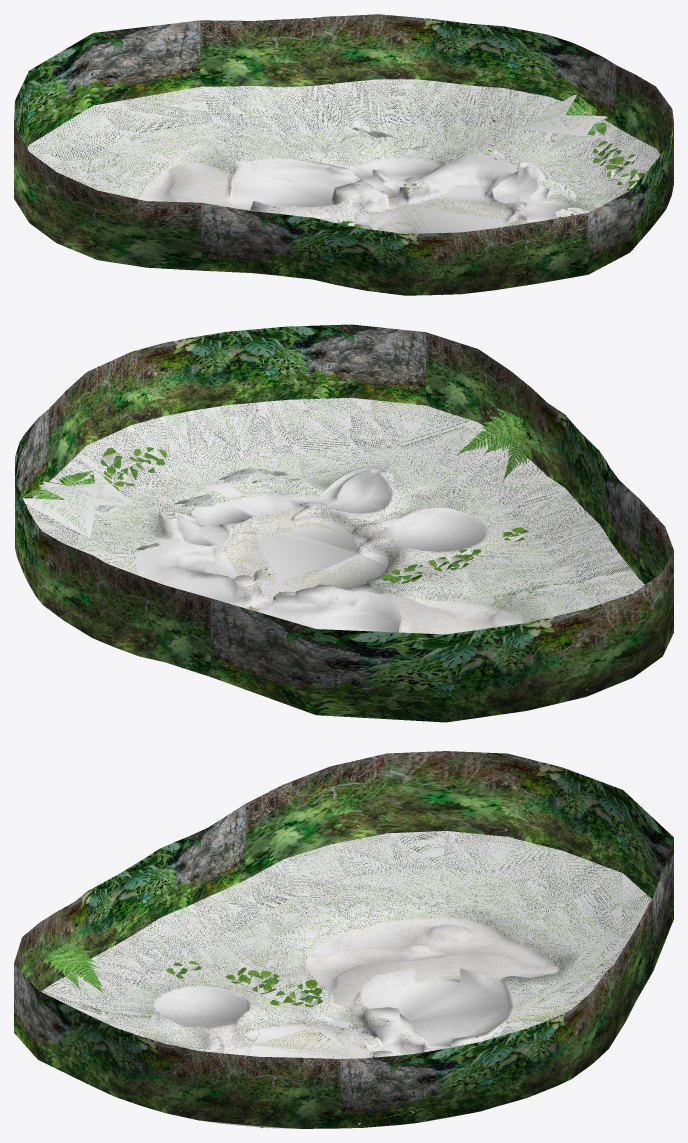
File: InUse.dae
3 renders of one model, top to bottom at view 1: azimuth 30°, elevation 25°; view 2: azimuth 150°, elevation 25°; view 3: azimuth 270°, elevation 25°, orthographic. The views are drawn at different scales.
Parts seen in each view (by area): view 1: MainMesh, FlippedNormalMesh; view 2: MainMesh, FlippedNormalMesh; view 3: MainMesh, FlippedNormalMesh.
Boxes of the visible parts, box(x1,y1,x2,y2) form: MainMesh: box(14, 14, 673, 295); FlippedNormalMesh: box(27, 79, 660, 233); MainMesh: box(15, 324, 673, 722); FlippedNormalMesh: box(14, 398, 644, 634); MainMesh: box(14, 751, 673, 1128); FlippedNormalMesh: box(41, 831, 651, 1128).
Size of the model in its own units: 368 by 345 by 75.
